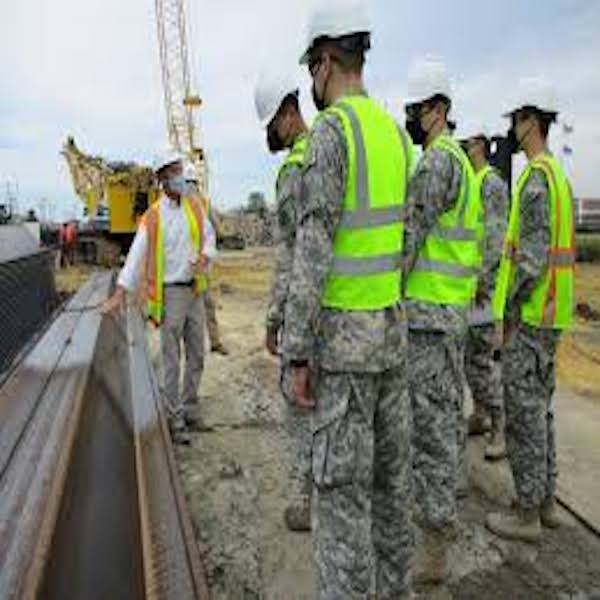helmet: (293, 5, 373, 57), (247, 64, 301, 136), (400, 56, 460, 107), (504, 77, 570, 121), (148, 140, 186, 170)
vest: (319, 94, 407, 315), (501, 161, 582, 335), (407, 140, 477, 305), (144, 189, 211, 322)
